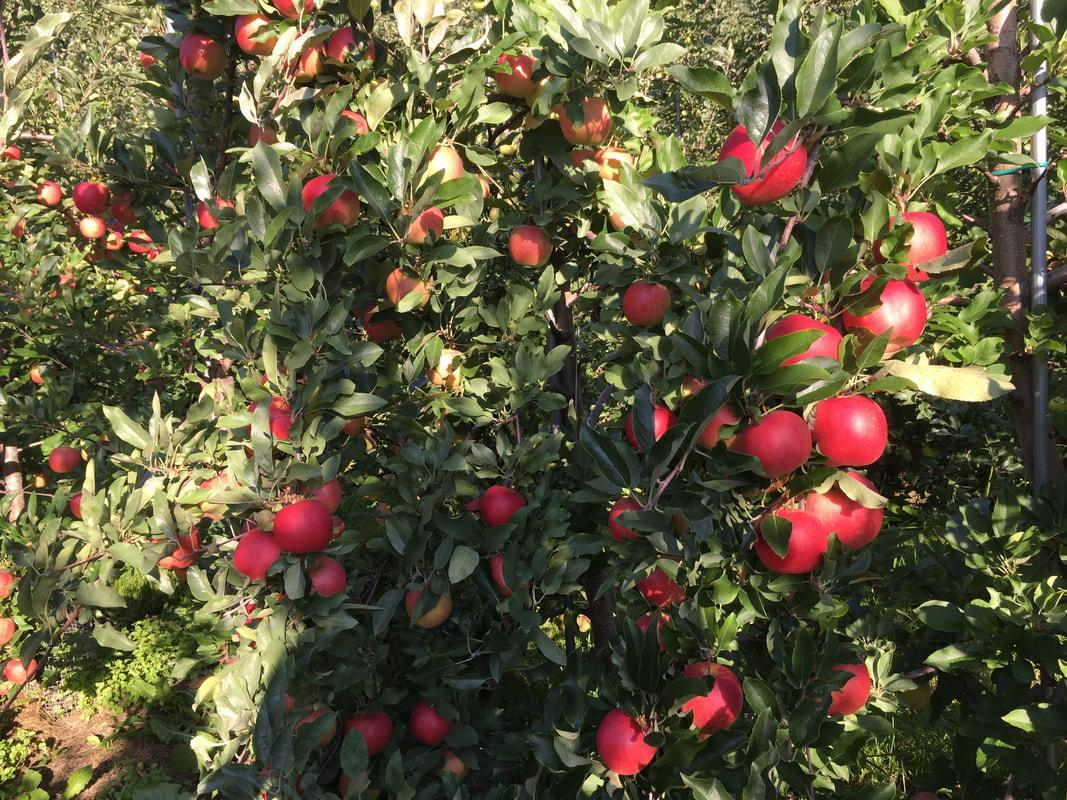apple: (808, 394, 888, 469), (840, 276, 927, 344), (725, 410, 808, 476), (676, 665, 741, 733), (596, 711, 656, 774), (272, 498, 332, 555), (890, 210, 945, 263), (556, 95, 611, 146), (825, 661, 871, 718), (233, 527, 281, 581), (178, 32, 227, 82), (622, 280, 669, 328), (490, 51, 537, 98), (478, 484, 524, 525), (507, 225, 550, 267), (232, 15, 277, 55), (304, 554, 345, 596), (71, 180, 109, 214), (46, 445, 82, 473), (35, 178, 62, 207), (76, 213, 106, 238)
